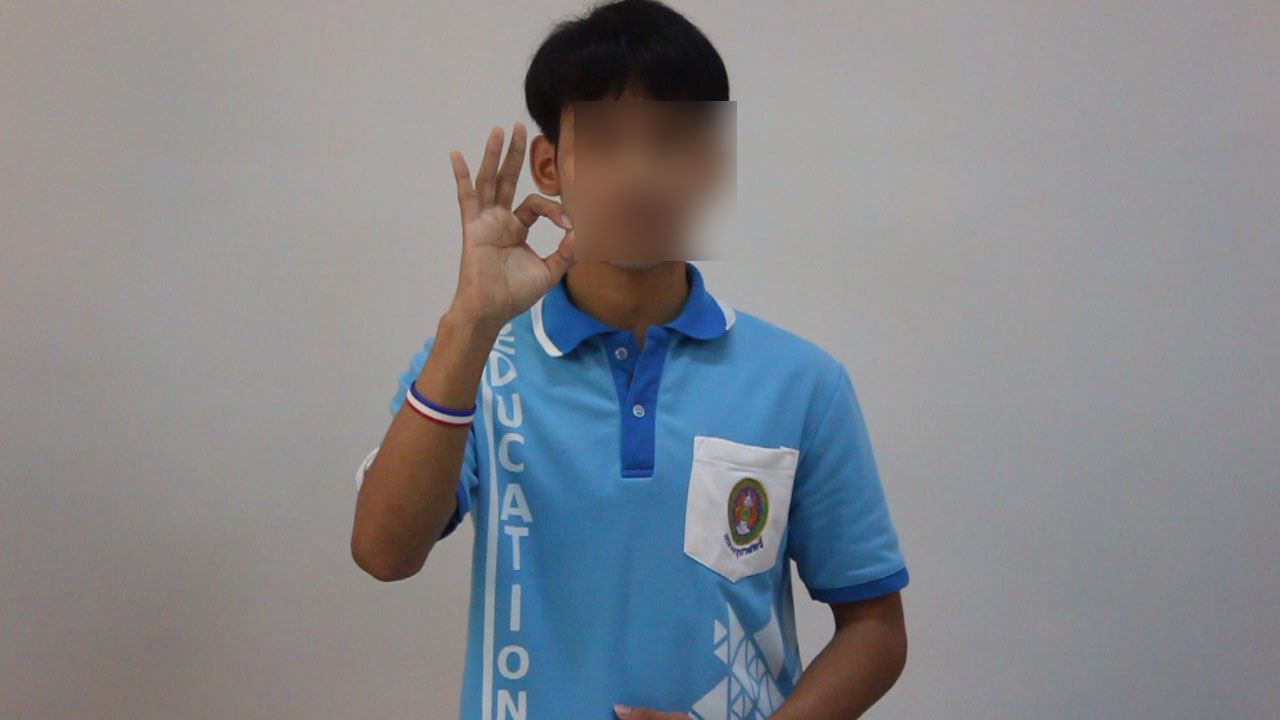for: (415, 113, 594, 335)
